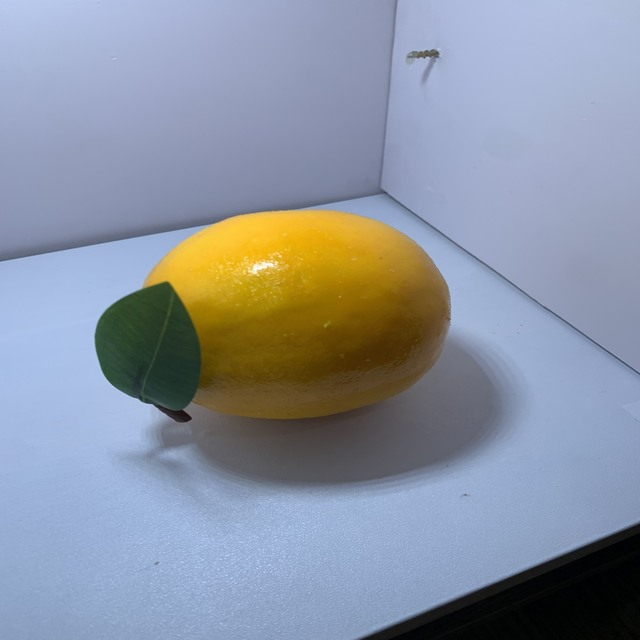Cam vang: (123, 206, 453, 427)
